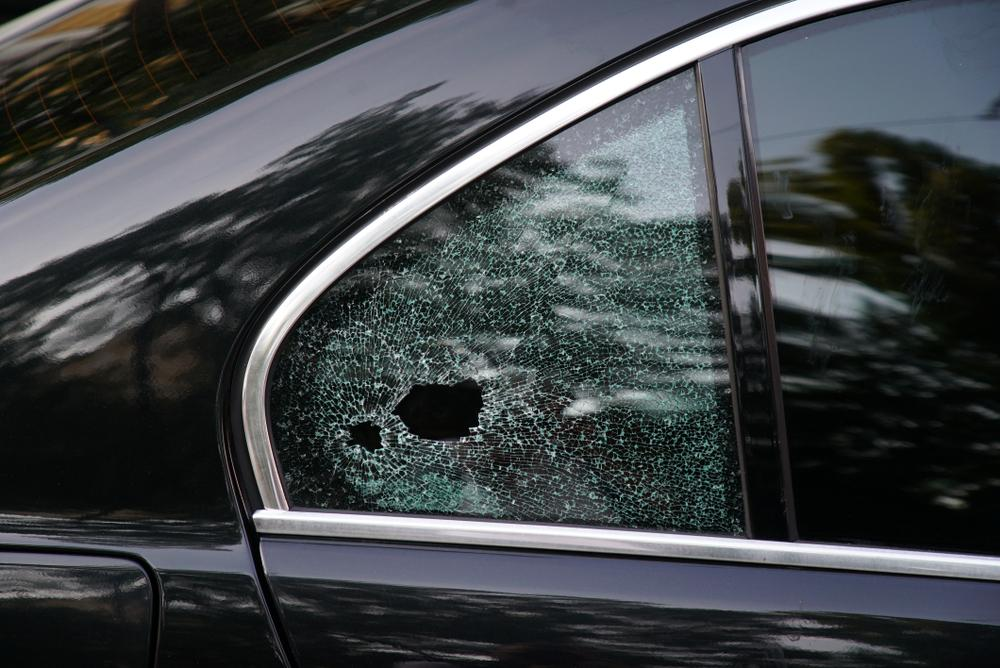glass shatter: (264, 67, 747, 539)
